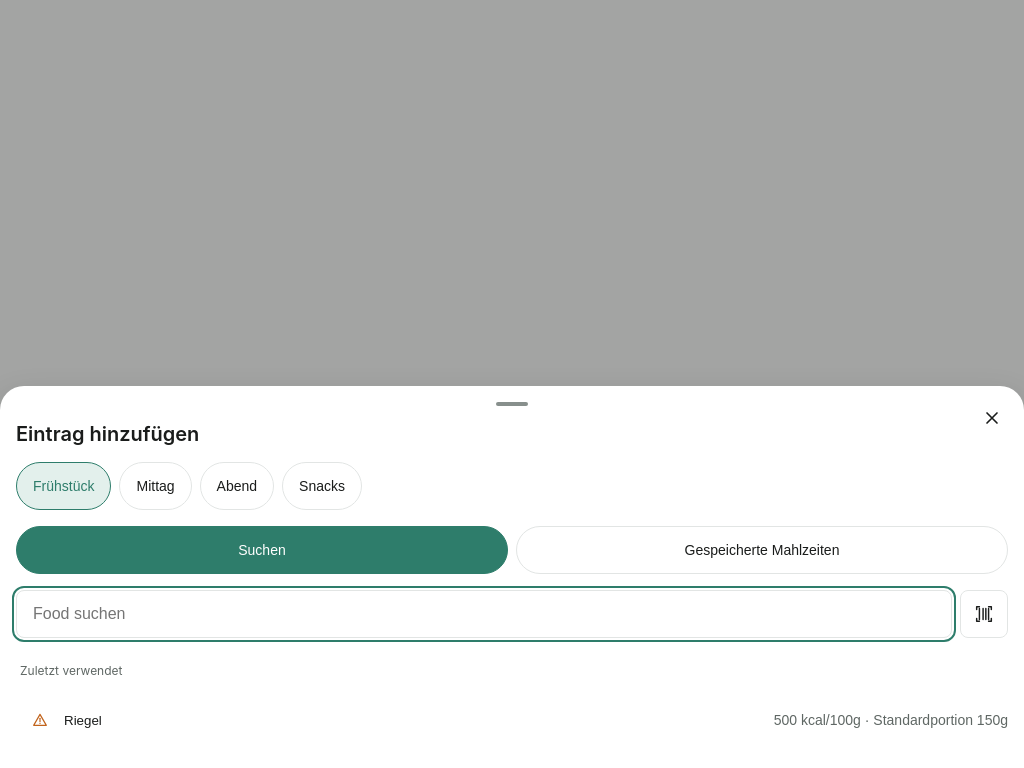
Test: FoodEntrySheetComponent › Step C — Nährwerte bearbeiten (Korrektur, ADR-0011 Punkt 6) › submit button label is "Speichern", disabled while canSubmitCorrect is false
Step 1. Click the button with class "marker-button" → (40, 720), box [16,712,64,728]
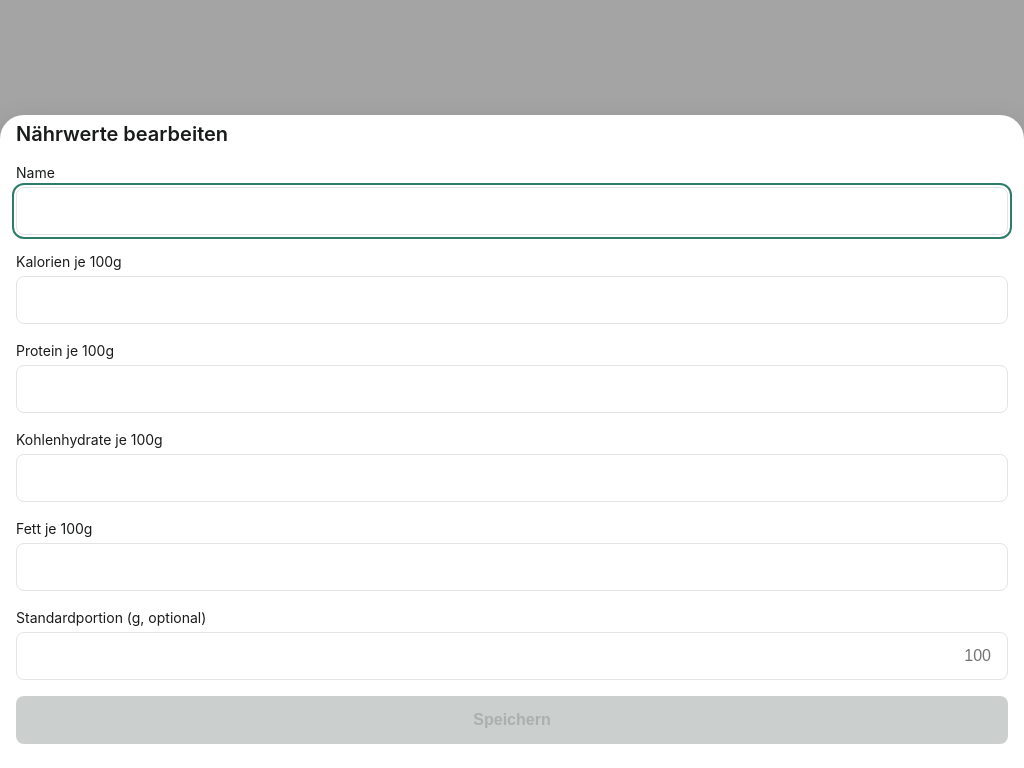
Now the button "Speichern" is shown, box [16,696,1008,744]
Now the button "Speichern" is disabled, box [16,696,1008,744]
